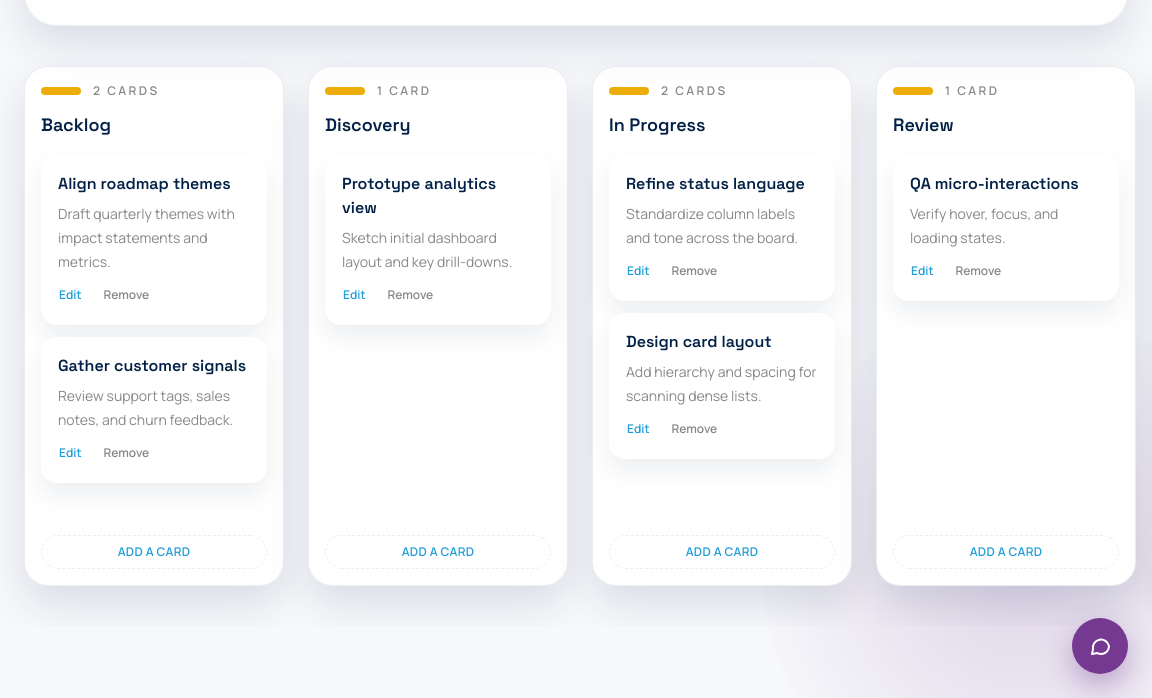
KanbanBoard › adds and removes a card and saves each change
The image size is (1152, 698).
(page scrolled)
Click the 1st button "Add a card": [154, 552] box [41, 535, 267, 569]
(page scrolled)
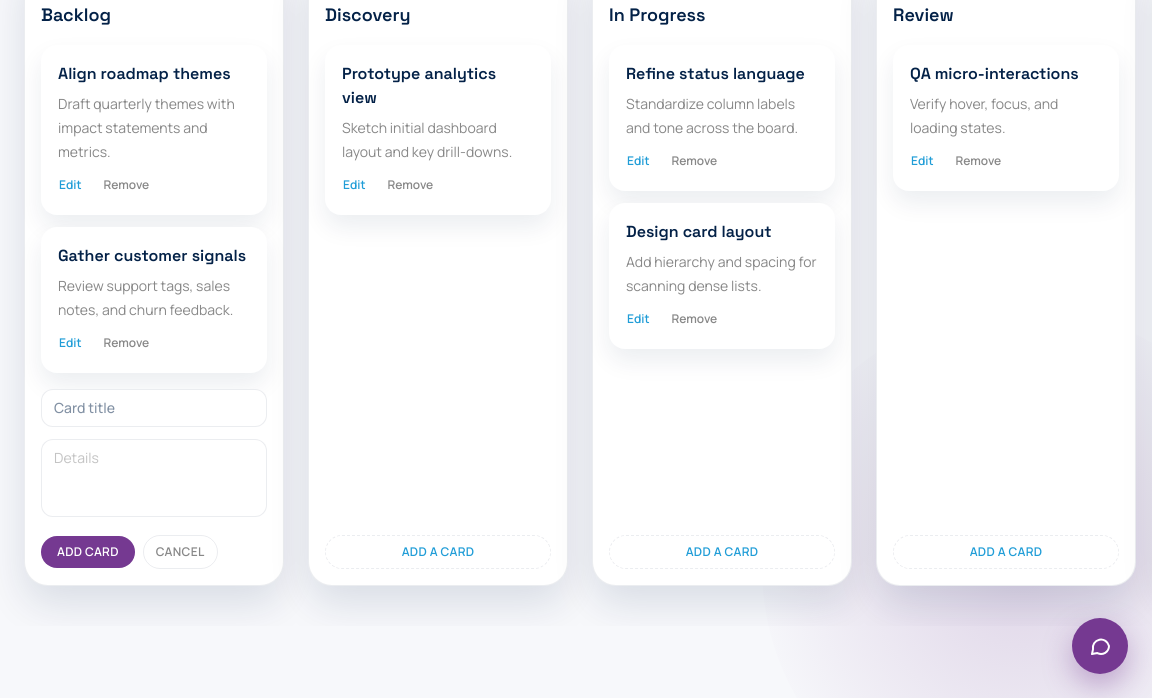
In the field with placeholder "Card title": [154, 408] box [41, 389, 267, 427], type "New card"
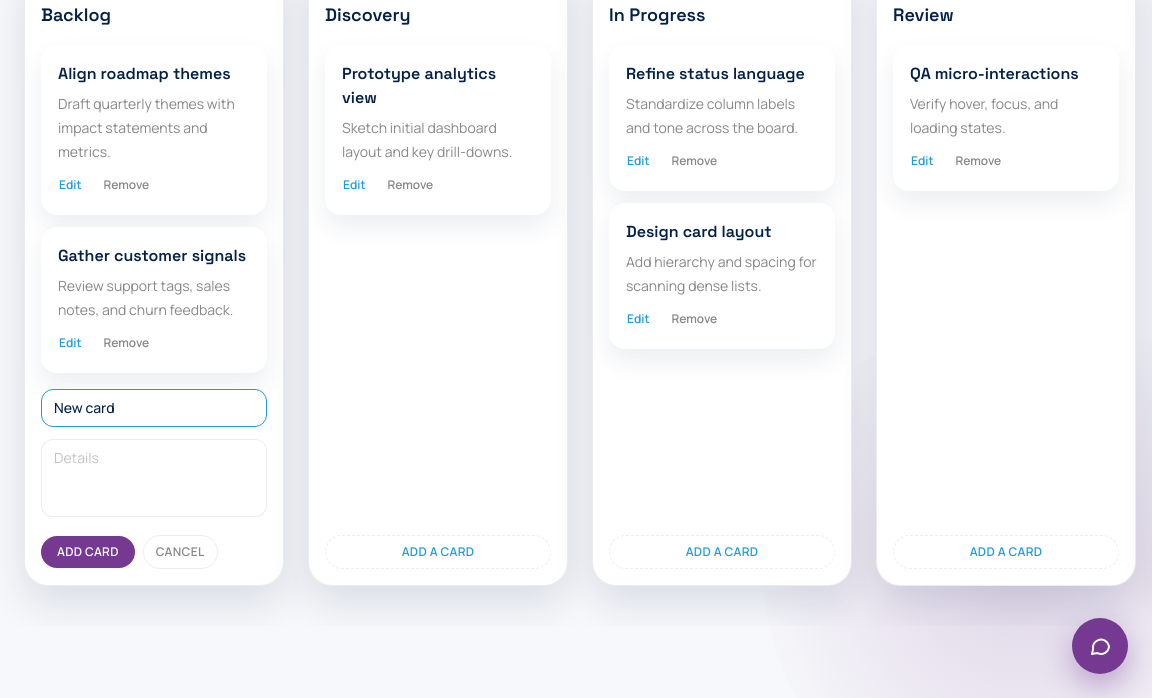
In the text box with placeholder "Details": [154, 478] box [41, 439, 267, 517], type "Notes"
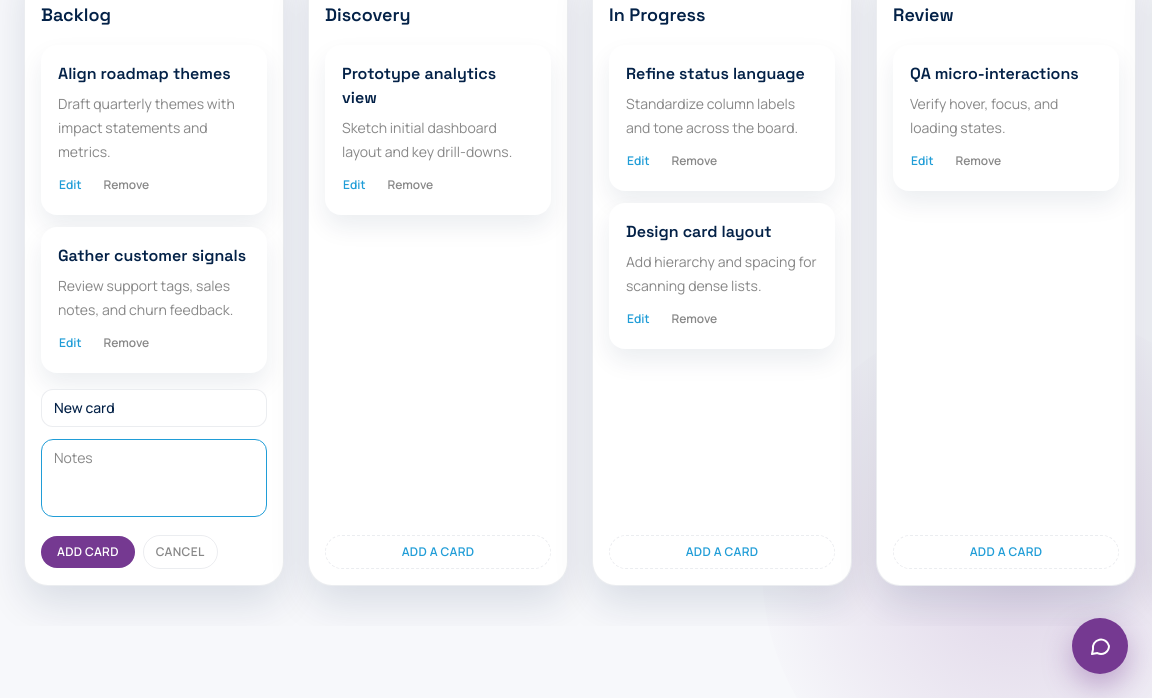
Click the button "Add card": [88, 552] box [41, 536, 135, 568]
(page scrolled)
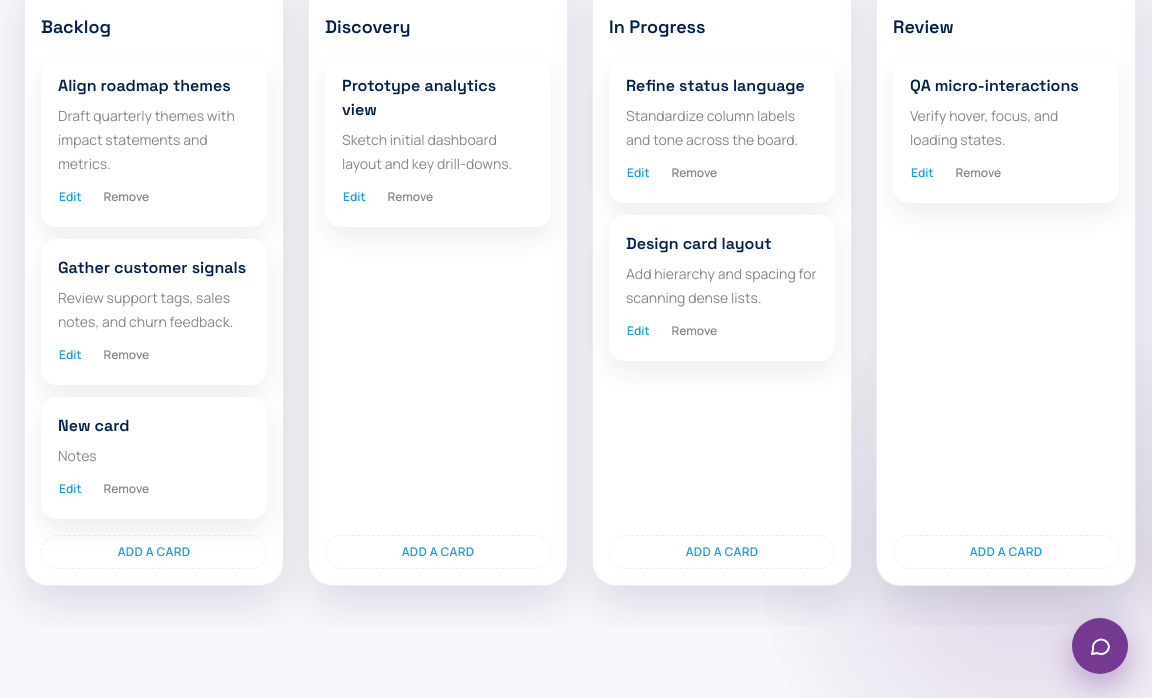
Check: the heading "New card" is shown, box [58, 415, 130, 436]
Click the button with aria-label "delete new card": [126, 489] box [94, 476, 158, 502]
(page scrolled)
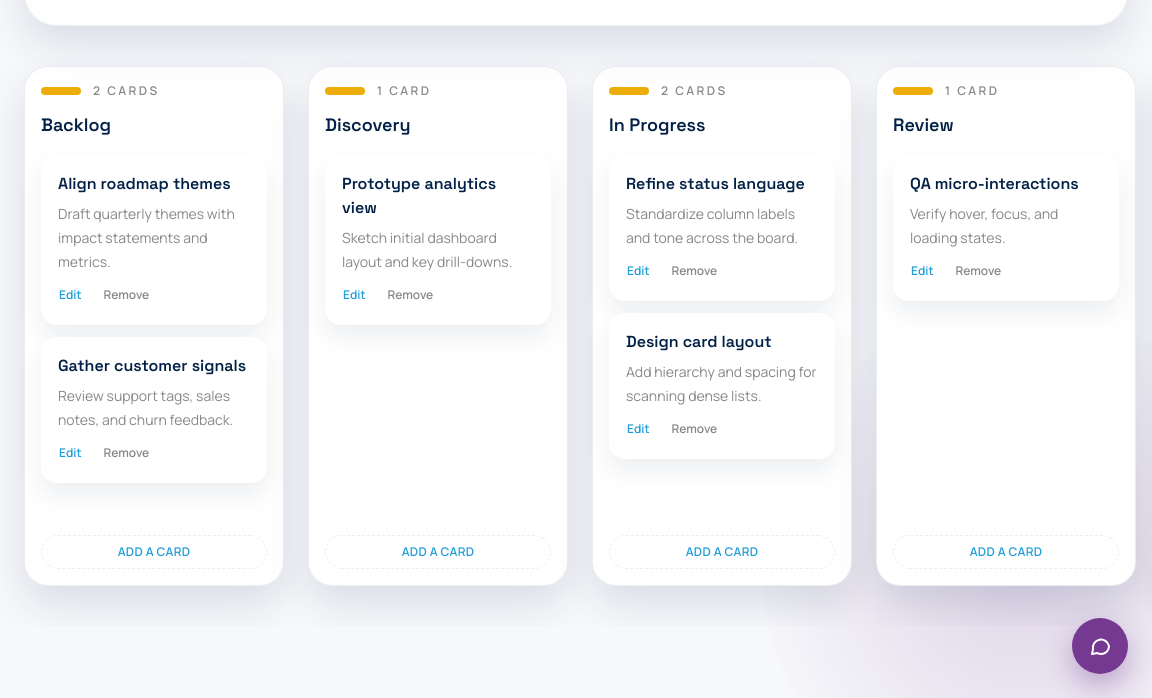
Check: the button "New card" is gone
